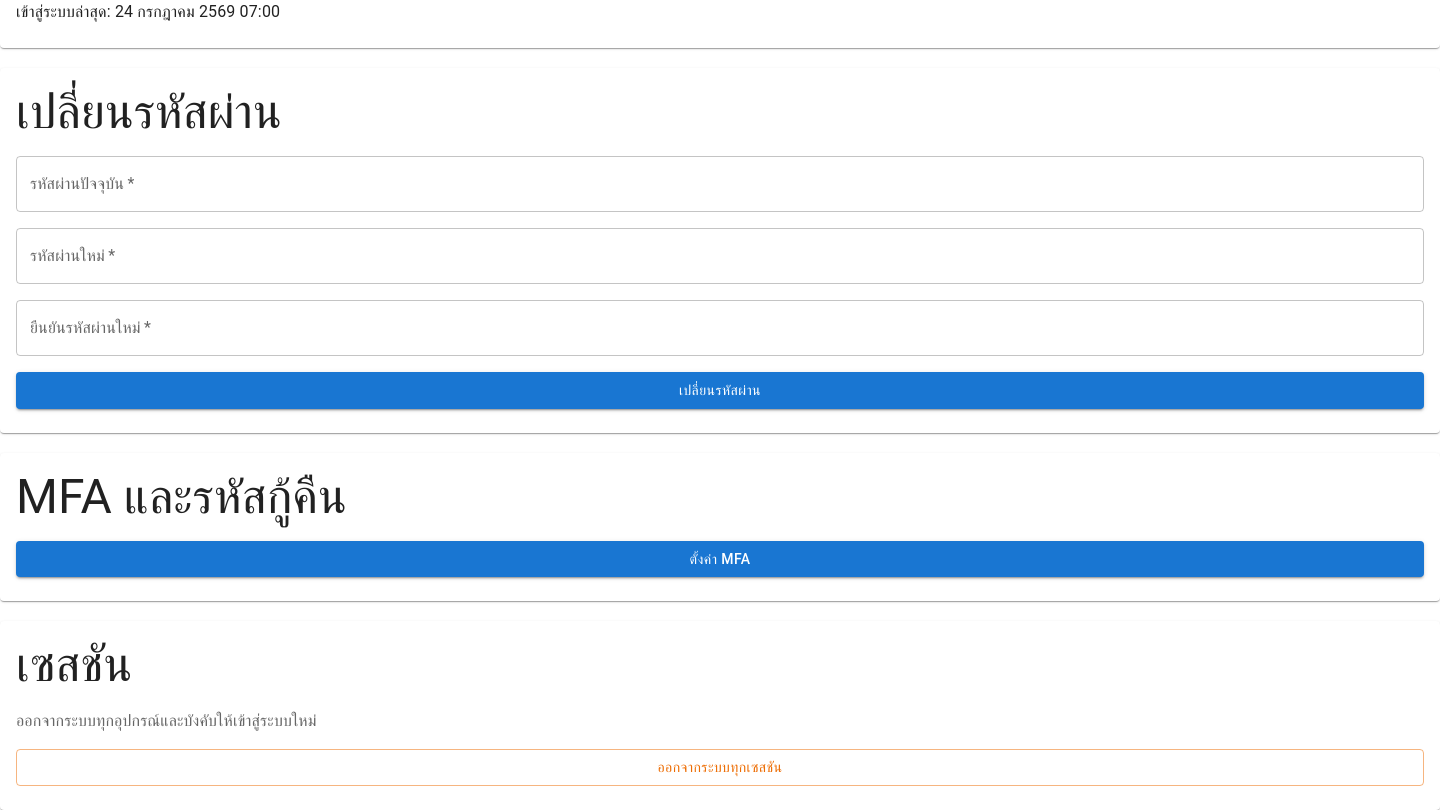
Scenario: AccountSecurityPage › requests password step-up for voluntary setup and retries only once
The width and height of the screenshot is (1440, 810).
(page scrolled)
Click the button "ตั้งค่า MFA" at [720, 559], box [16,541,1424,577]
(page scrolled)
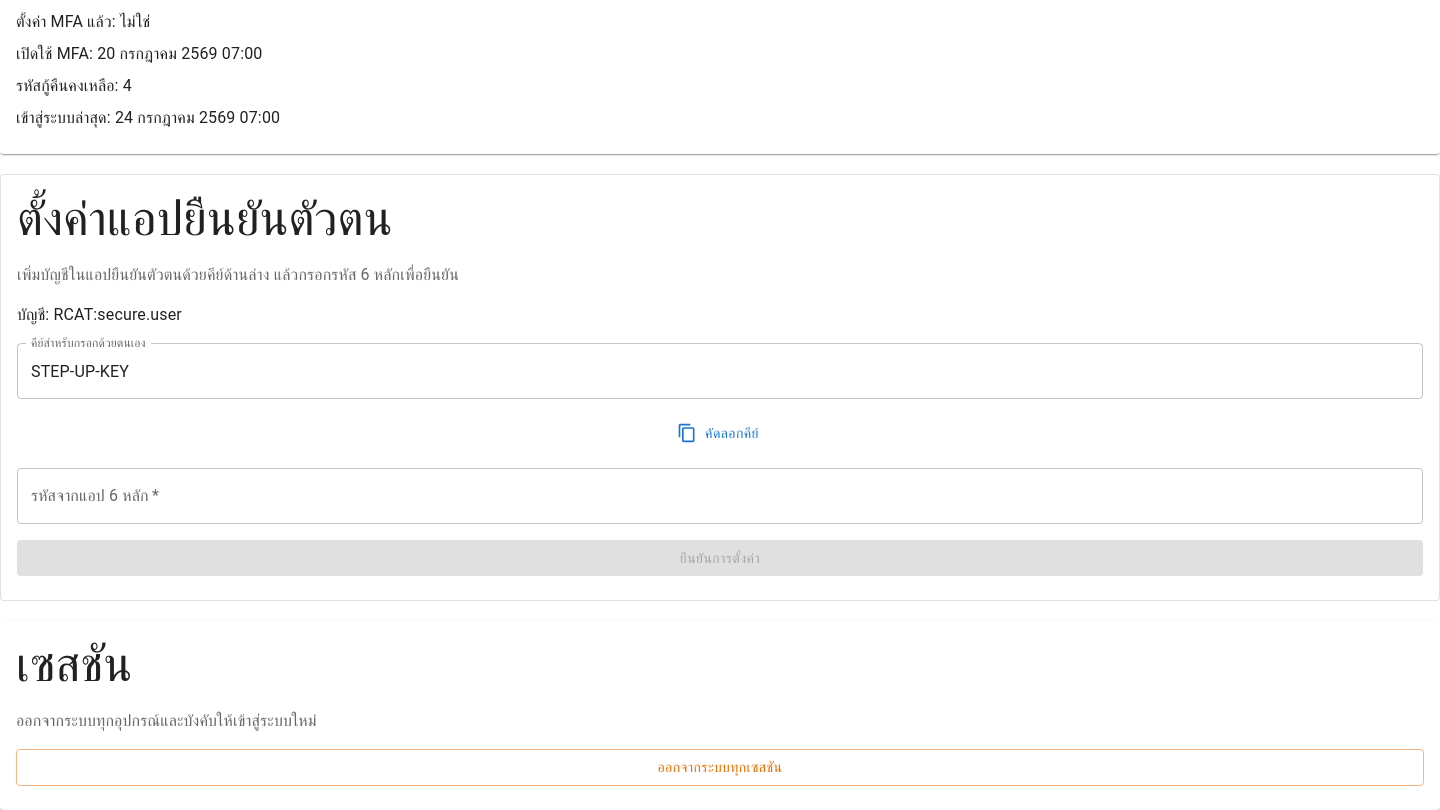
Expected: the field showing "STEP-UP-KEY" is shown, [17,343,1423,399]
